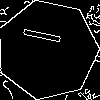I: (22, 25, 71, 48)
